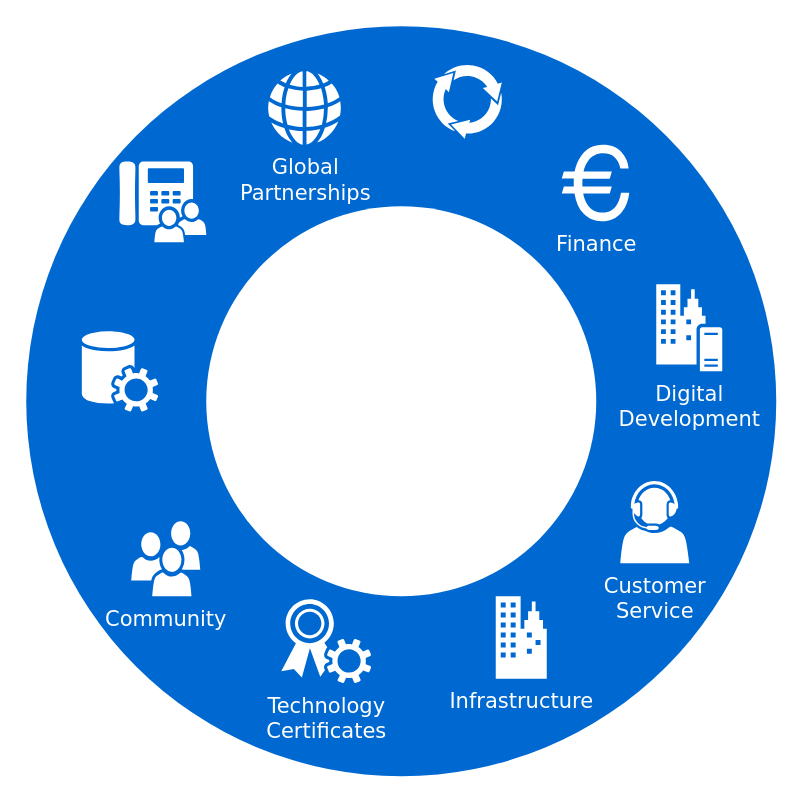
Some shapes in this 801 by 801 pixel diagram are drawn without their labels. The centre of each missing label's shape, as x and y in pixels:
"Central Management Service" goes at pixel 119 370.
"Enterprise Business Model" goes at pixel 401 401.
"Environmental Awareness" goes at pixel 466 100.
"Manage Conversations" goes at pixel 162 201.
